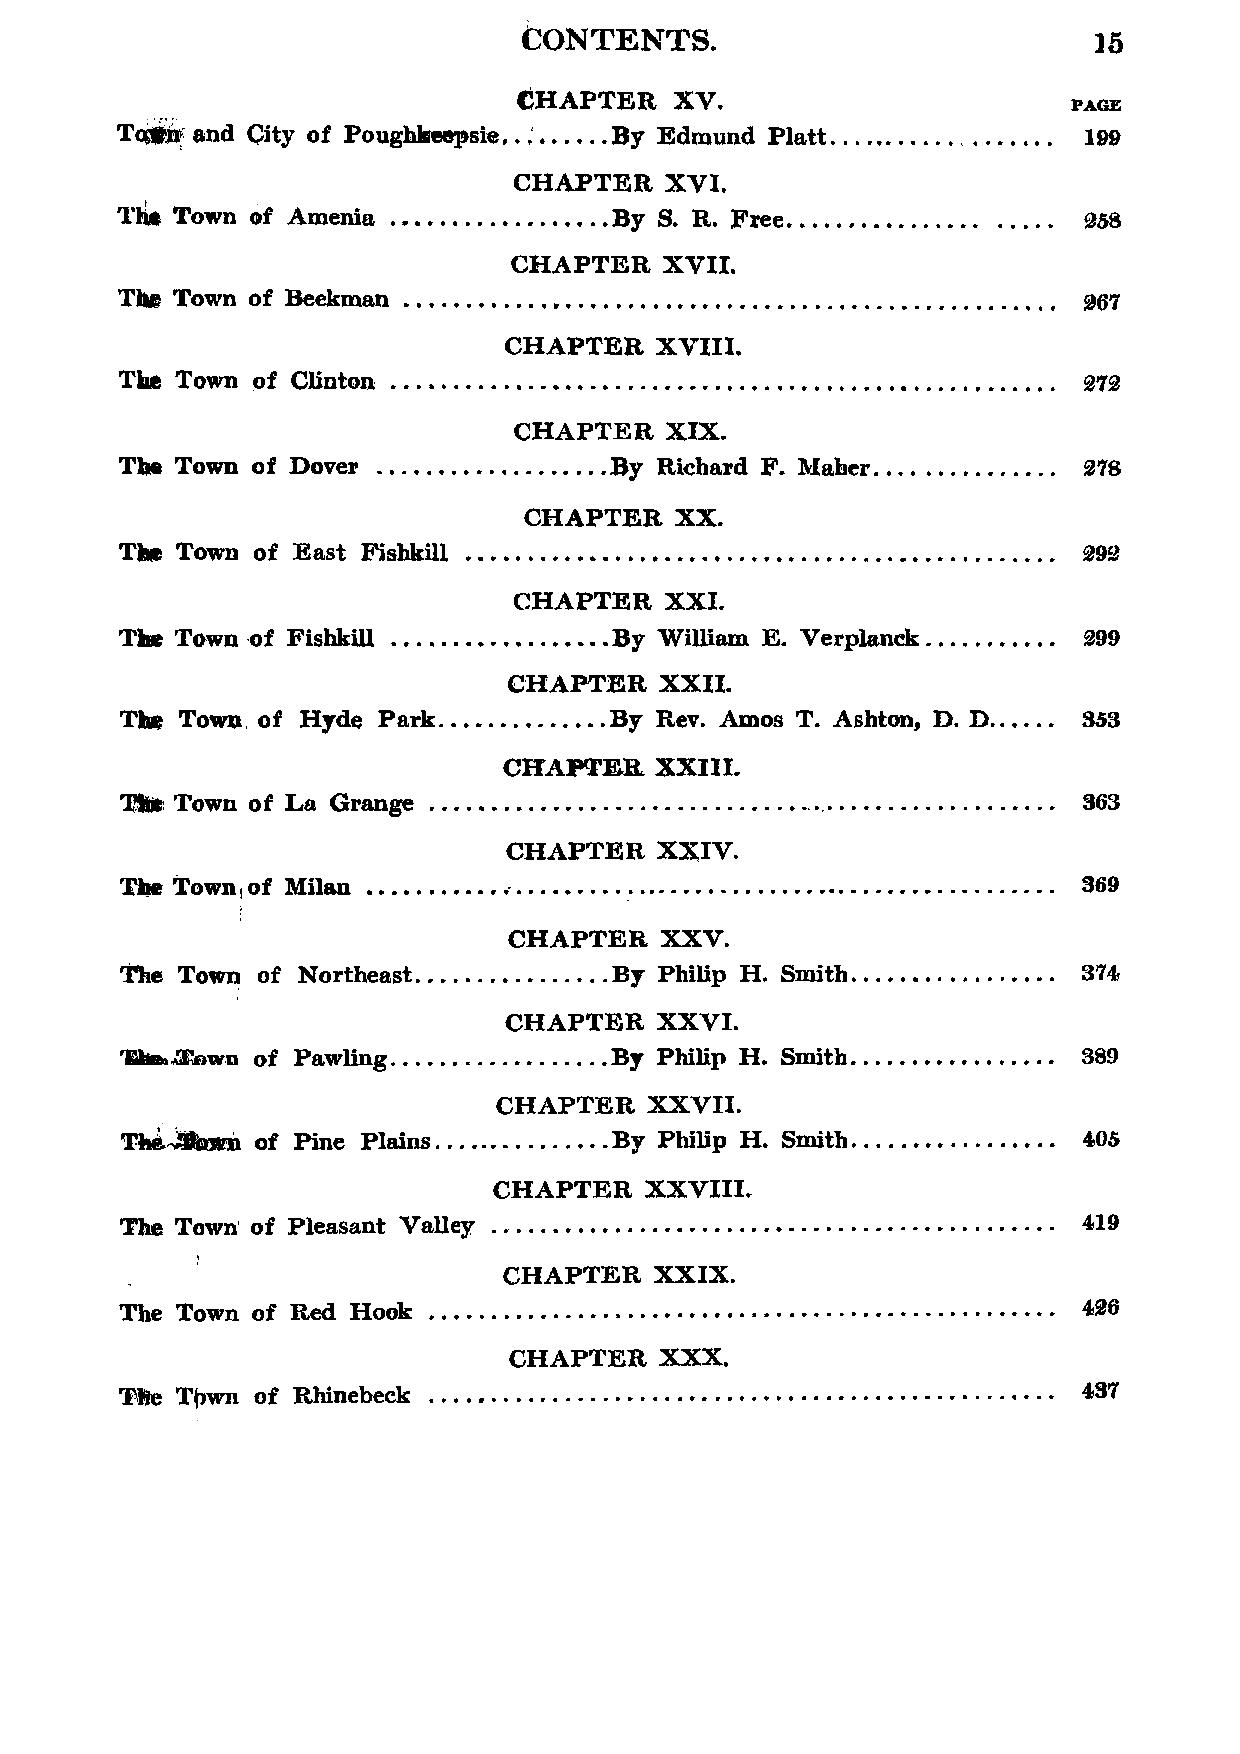TOC_chapter: (105, 701, 997, 750), (107, 615, 925, 666), (111, 954, 854, 994), (111, 446, 876, 484), (111, 1125, 858, 1161), (103, 115, 827, 152), (111, 1041, 858, 1075), (103, 199, 793, 235), (107, 527, 454, 572), (117, 1205, 480, 1245), (107, 782, 413, 825), (107, 274, 392, 315), (117, 1292, 417, 1331), (493, 321, 750, 362), (484, 1168, 765, 1204), (505, 242, 739, 285), (115, 360, 370, 399), (115, 1377, 417, 1409), (487, 1256, 738, 1291), (107, 867, 356, 902), (499, 752, 743, 786), (495, 831, 738, 866), (487, 1086, 747, 1118), (497, 1005, 754, 1037), (518, 495, 729, 534), (502, 578, 727, 615), (502, 1338, 735, 1373), (506, 411, 729, 447), (501, 918, 739, 951), (509, 164, 731, 199), (506, 670, 735, 701), (505, 79, 725, 109)
TOC_pagenumber: (1075, 1372, 1129, 1418), (1074, 444, 1127, 487), (1075, 950, 1131, 990), (1075, 863, 1127, 906), (1072, 276, 1126, 318), (1072, 525, 1126, 566), (1072, 780, 1126, 819), (1082, 111, 1125, 158), (1075, 701, 1125, 739), (1079, 1118, 1125, 1159), (1078, 1035, 1126, 1074), (1078, 619, 1122, 659), (1078, 360, 1126, 395), (1079, 1292, 1125, 1327), (1079, 1205, 1125, 1235), (1087, 211, 1133, 238)
chapter: (511, 13, 723, 59)
